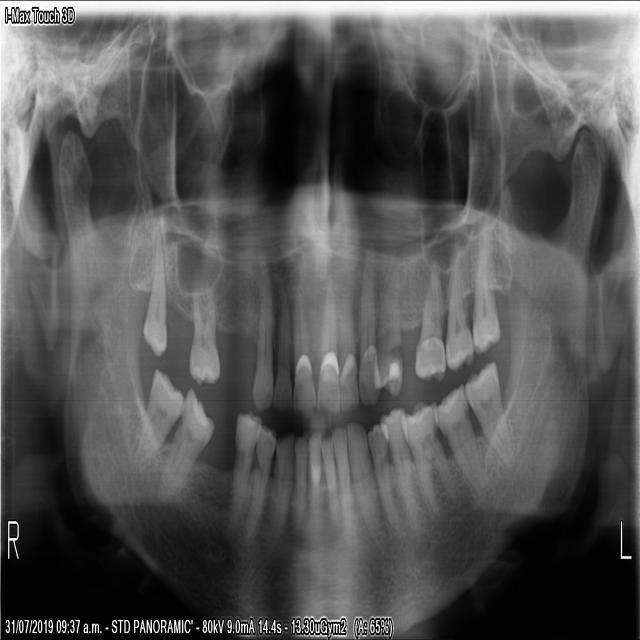LCD: (344, 413, 386, 552)
LCU: (355, 237, 382, 409)
LID: (327, 419, 357, 551), (319, 429, 343, 538)
LIU: (315, 267, 342, 418), (335, 255, 358, 417)
LMD: (396, 389, 459, 527), (431, 377, 489, 506), (463, 352, 517, 473)
LMU: (412, 254, 448, 385), (470, 218, 501, 355), (444, 231, 473, 372)
LPMD: (377, 400, 427, 540), (364, 410, 403, 540)
LPMU: (371, 244, 404, 403)
RCD: (270, 424, 295, 541)
RCU: (249, 258, 275, 413)
RID: (292, 429, 307, 532), (306, 424, 321, 523)
RIU: (287, 266, 318, 425), (271, 267, 293, 417)
RMD: (148, 378, 215, 524), (122, 355, 187, 477)
RMU: (139, 215, 168, 358), (186, 279, 220, 390)
RPMD: (239, 417, 277, 552), (222, 408, 261, 539)
